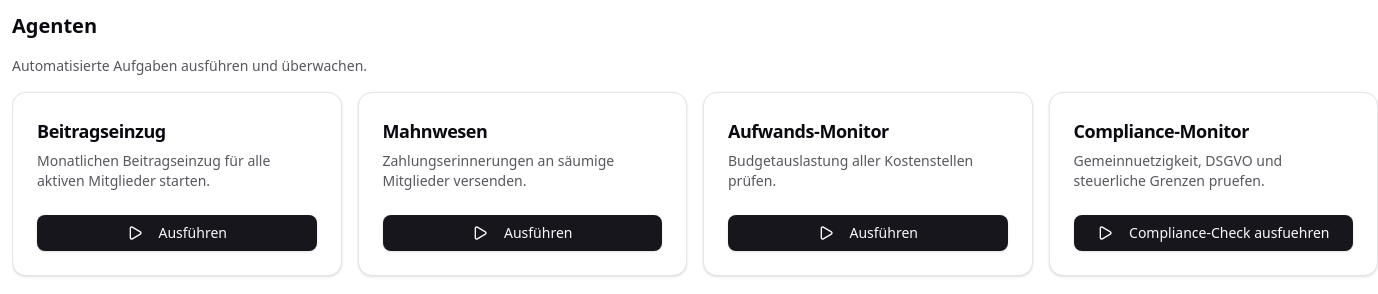
AgentDashboard › shows loading state when Beitragseinzug is running
This screenshot has width=1378, height=294.
Click the button with test id "run-beitragseinzug": (177, 233) [37,215,316,251]
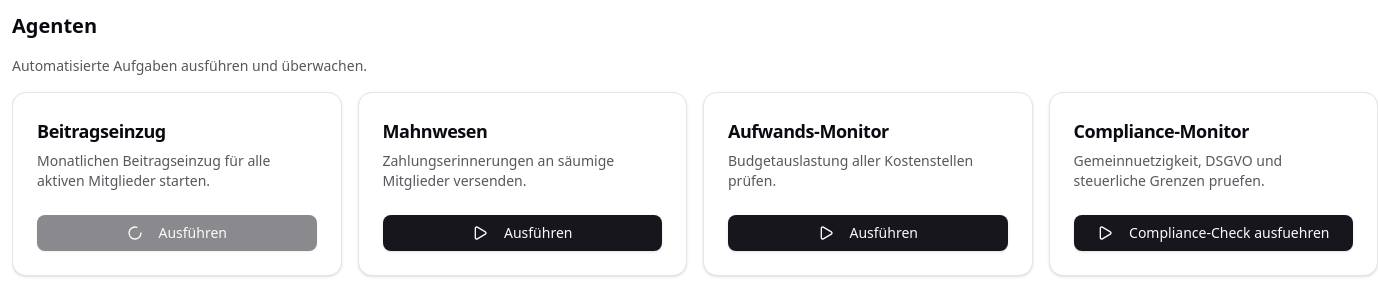
Result: the button with test id "run-beitragseinzug" is disabled at [37,215,316,251]
